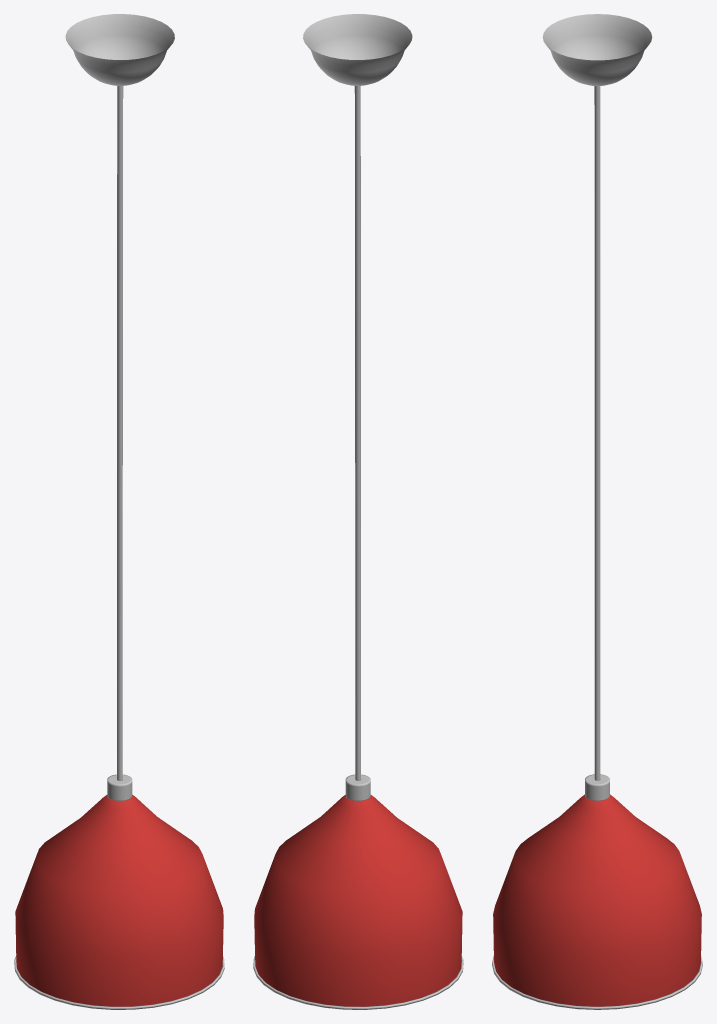
File: lampu gantung merah.fbx
3 views of the same model, side by side, from view 1: azimuth 30°, elevation 25°; view 2: azimuth 150°, elevation 25°; view 3: azimuth 270°, elevation 25° (orthographic).
Visible parts, largest first — view 1: ceiling lamp.013; view 2: ceiling lamp.013; view 3: ceiling lamp.013.
Part boxes in pixels (x1,y1,x2,y2): ceiling lamp.013: [14, 14, 224, 1009]; ceiling lamp.013: [253, 14, 463, 1009]; ceiling lamp.013: [492, 14, 702, 1009].
Bounding box in the file's own units: 55.97 × 272 × 55.97.
